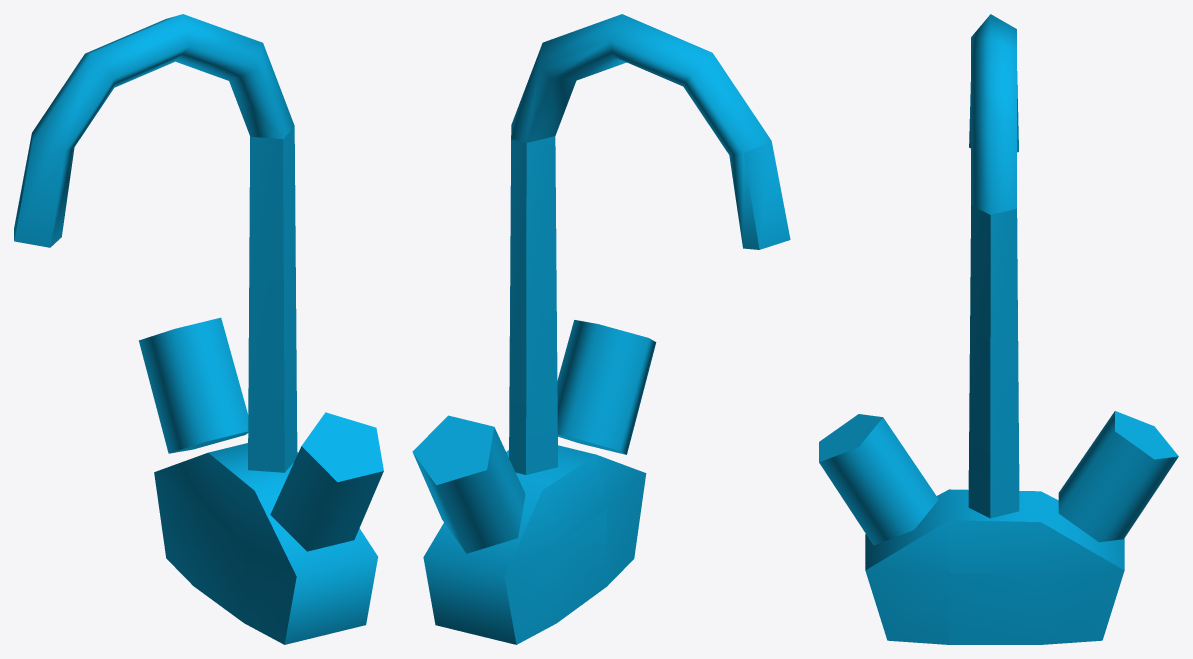
Rendered from Kitchen_Faucet_01_Lod2.fbx.
3 views of the same model, side by side, from view 1: azimuth 30°, elevation 25°; view 2: azimuth 150°, elevation 25°; view 3: azimuth 270°, elevation 25° (orthographic). The views are drawn at different scales.
Visible parts, largest first — view 1: Kitchen_Faucet_01_Lod2; view 2: Kitchen_Faucet_01_Lod2; view 3: Kitchen_Faucet_01_Lod2.
Boxes of the visible parts, box(x1,y1,x2,y2) form: Kitchen_Faucet_01_Lod2: box(14, 14, 383, 644); Kitchen_Faucet_01_Lod2: box(412, 14, 790, 644); Kitchen_Faucet_01_Lod2: box(819, 14, 1178, 644).
Bounding box in the file's own units: 18.43 × 35.1 × 20.93.
